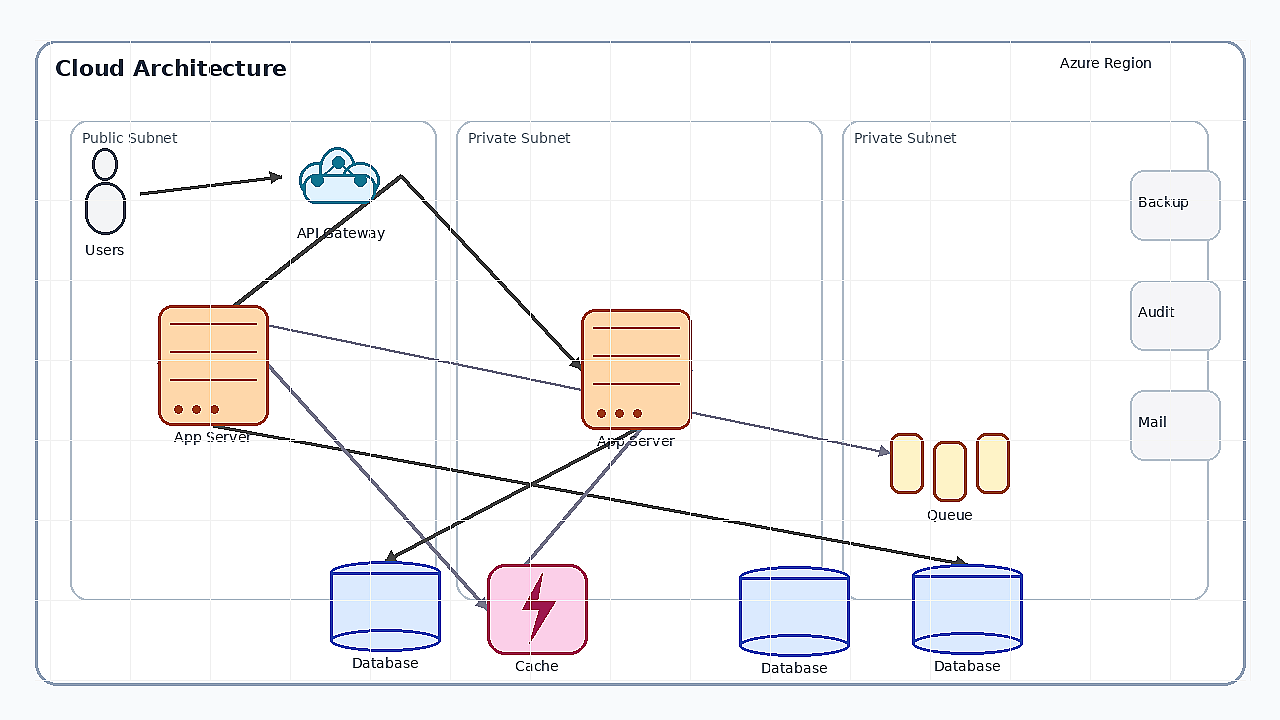API Gateway: (281, 131, 401, 221)
Application Server: (158, 305, 268, 425), (581, 309, 691, 429)
Cache: (487, 564, 587, 654)
Database: (330, 561, 440, 651), (912, 564, 1022, 654), (739, 566, 849, 656)
Message Queue: (890, 433, 1010, 503)
User: (70, 148, 140, 238)
